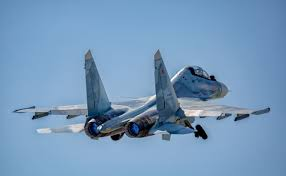maybay_muctieu: (24, 55, 264, 149)
